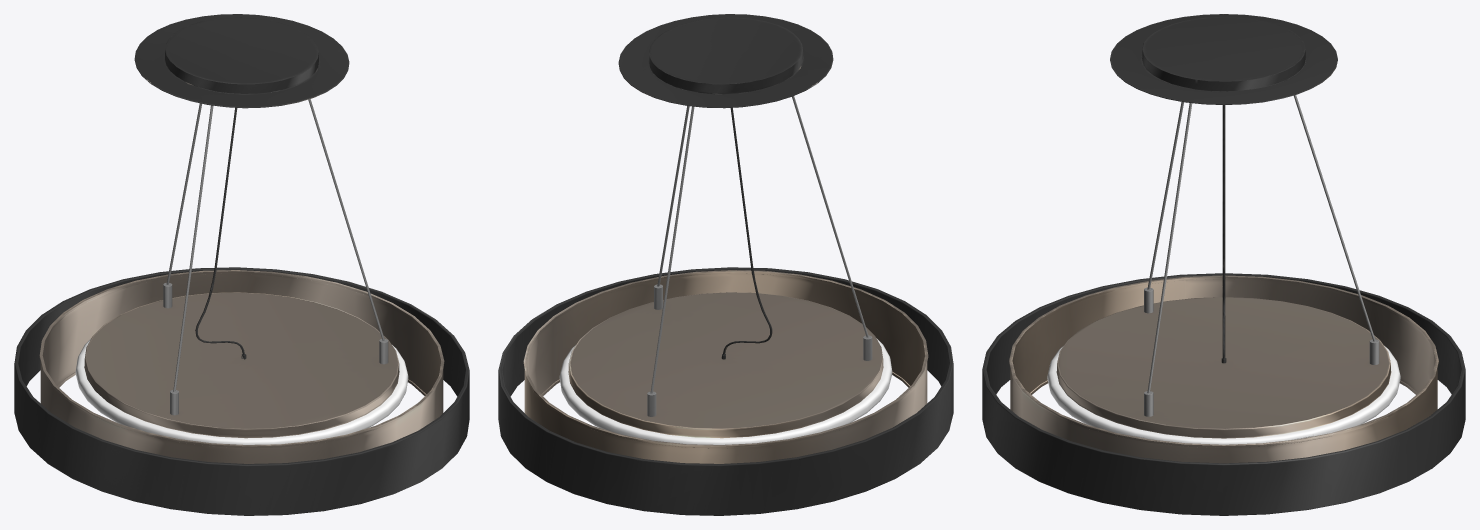
Rendered from Pendant_Lamp_a6d15102-4196-5ccd-9687-ed965aa13328.glb.
The picture shows the model from 3 angles, left to right: view 1: azimuth 30°, elevation 25°; view 2: azimuth 150°, elevation 25°; view 3: azimuth 270°, elevation 25°; orthographic projection.
Parts seen in each view (by area): view 1: raw_model.obj; view 2: raw_model.obj; view 3: raw_model.obj.
Part boxes in pixels (<box>): raw_model.obj: <box>14,14,469,515</box>; raw_model.obj: <box>498,14,953,515</box>; raw_model.obj: <box>982,14,1465,515</box>.
Bounding box in the file's own units: 0.9885 × 0.914 × 1.05.
Materials: 1 (1 with a texture image).
